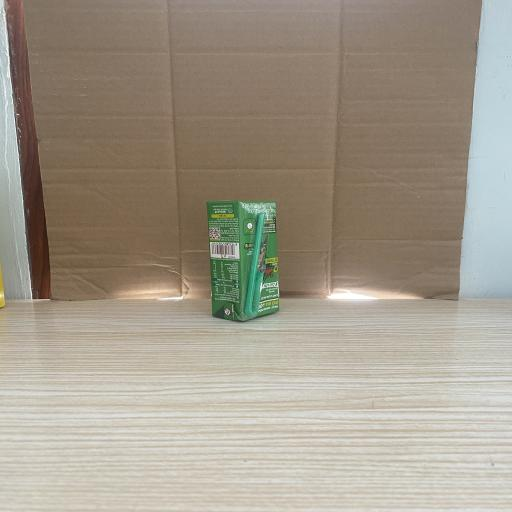milo: (207, 201, 279, 321)
